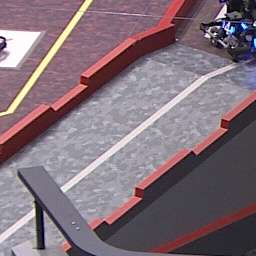Blue: (221, 19, 235, 37)
Robot: (198, 1, 256, 62)
